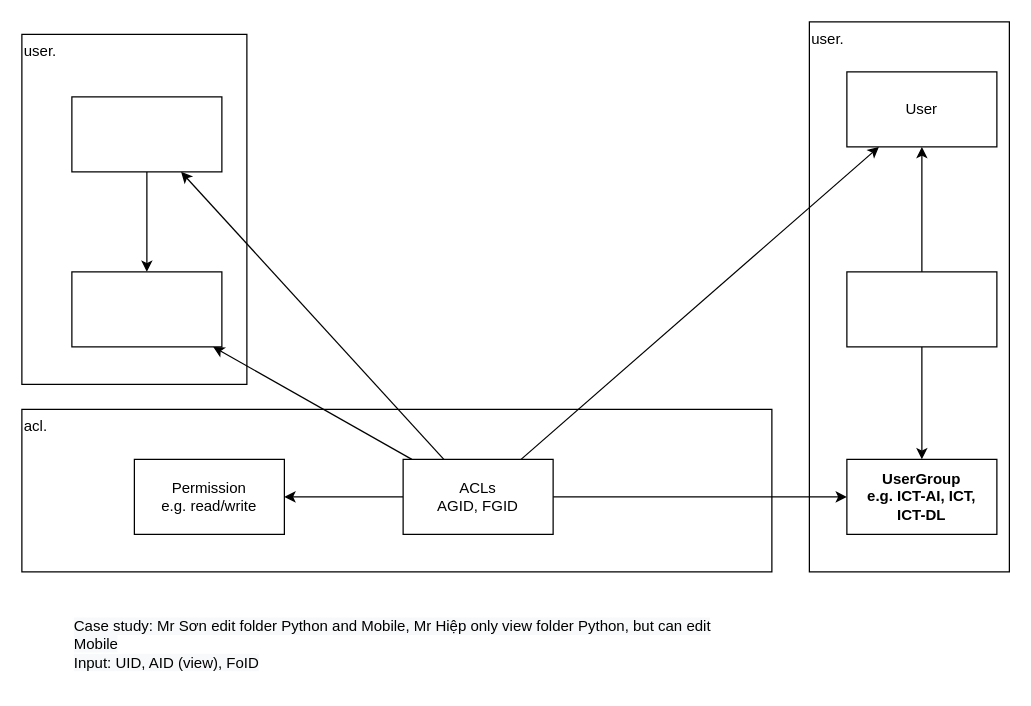
The diagram is 1031 pixels wide and 706 high, and some of its shapes have lost their labels. The centre of each missing label's shape, as x and y in pixels:
File: [146,134]
Folder: [146,309]
UserGroupM-M: [921,309]
